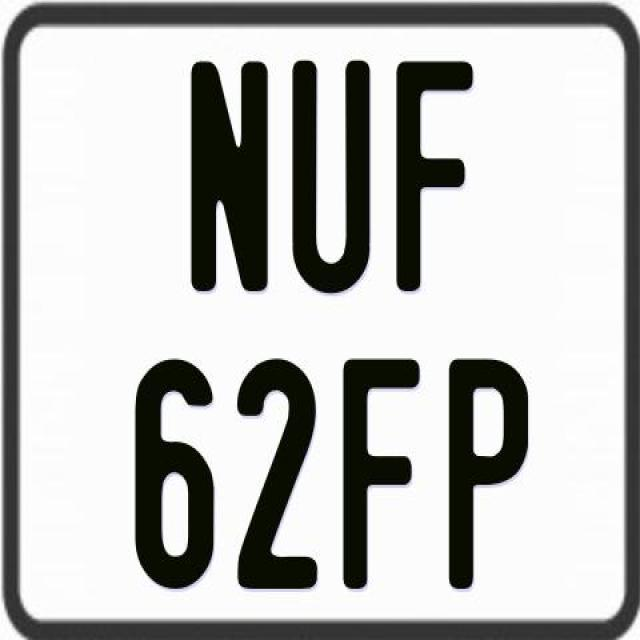2: (235, 358, 318, 592)
6: (134, 358, 214, 588)
F: (343, 355, 428, 592), (392, 56, 472, 294)
N: (189, 56, 267, 288)
P: (448, 356, 532, 594)
U: (292, 61, 372, 294)
